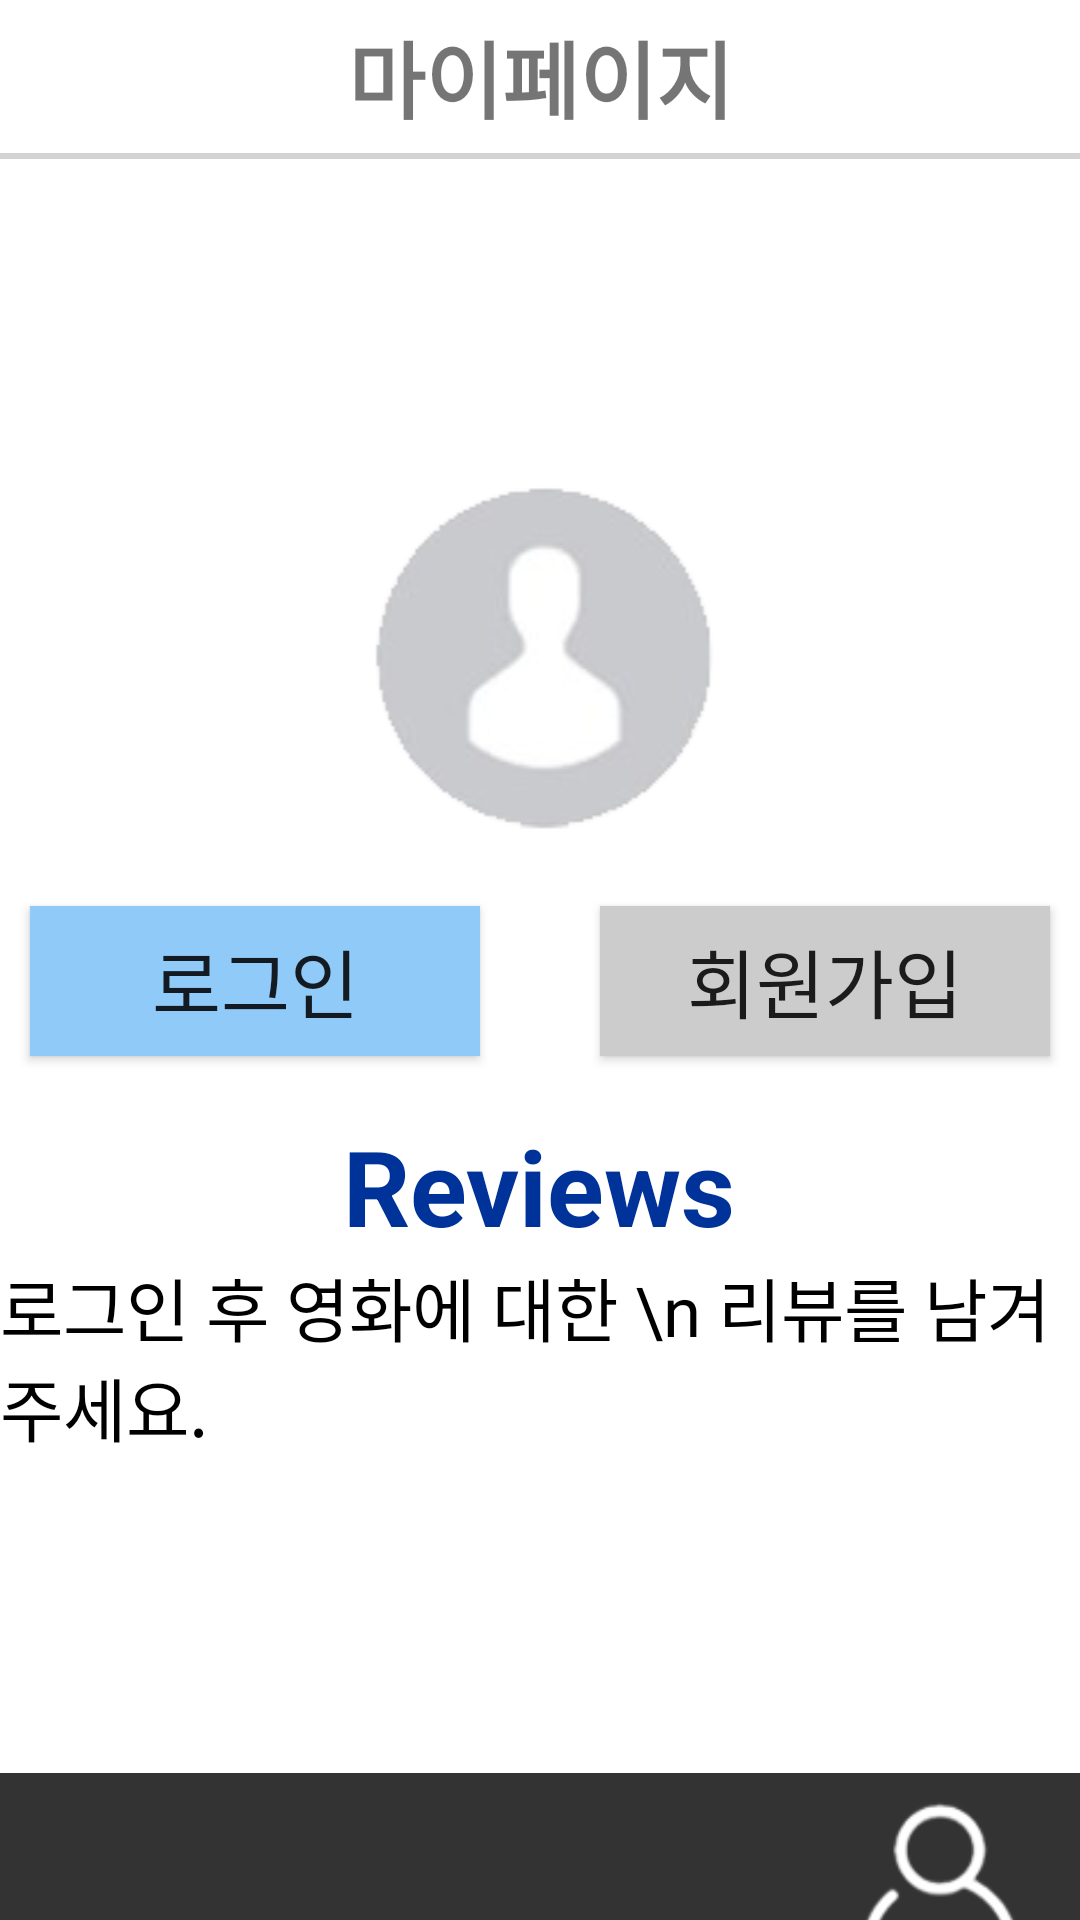

Point at icon controls on the screen. Image size 1080w x 1920h, points as point (x, y).
person: point (543, 658)
